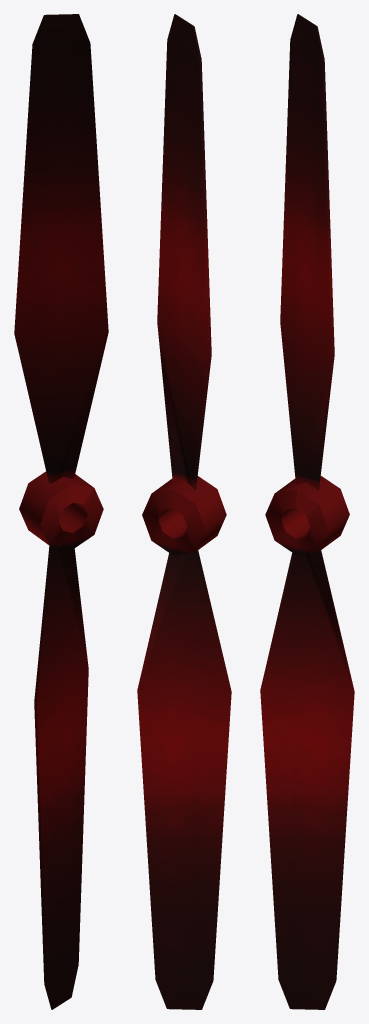
The model's file is FAIREY-III-HELICE.obj.
3 views of the same model, side by side, from view 1: azimuth 30°, elevation 25°; view 2: azimuth 150°, elevation 25°; view 3: azimuth 330°, elevation 25° (orthographic).
Parts seen in each view (by area): view 1: Helice; view 2: Helice; view 3: Helice.
Boxes of the visible parts, bbox=[...] form: Helice: bbox=[14, 14, 108, 1009]; Helice: bbox=[137, 14, 231, 1009]; Helice: bbox=[260, 14, 354, 1009].
Size of the model in its own units: 6.87 by 87.4 by 3.75.
1 material, 1 textured.
